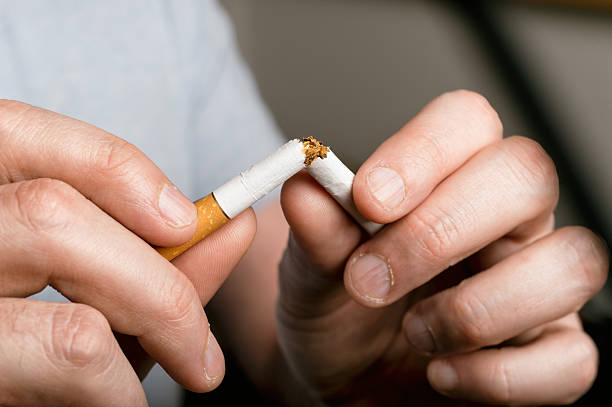cigarette: (150, 139, 311, 263), (302, 143, 388, 236)
